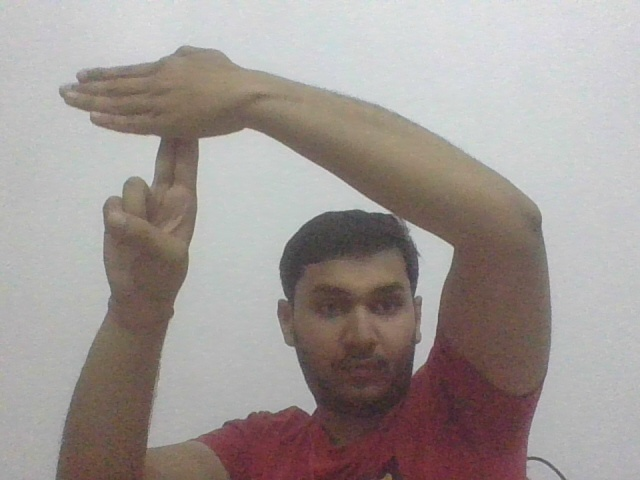N: (57, 41, 228, 188)
